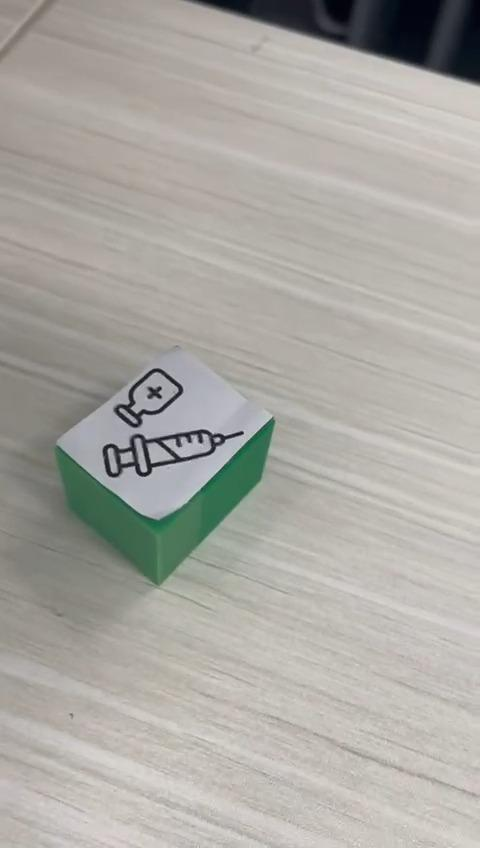antiseptic cream: (53, 343, 276, 586)
